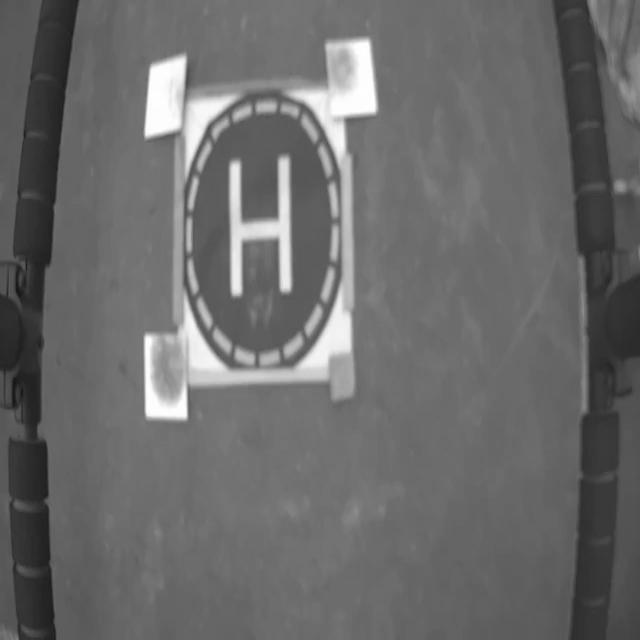Helipad: (229, 154, 292, 300)
